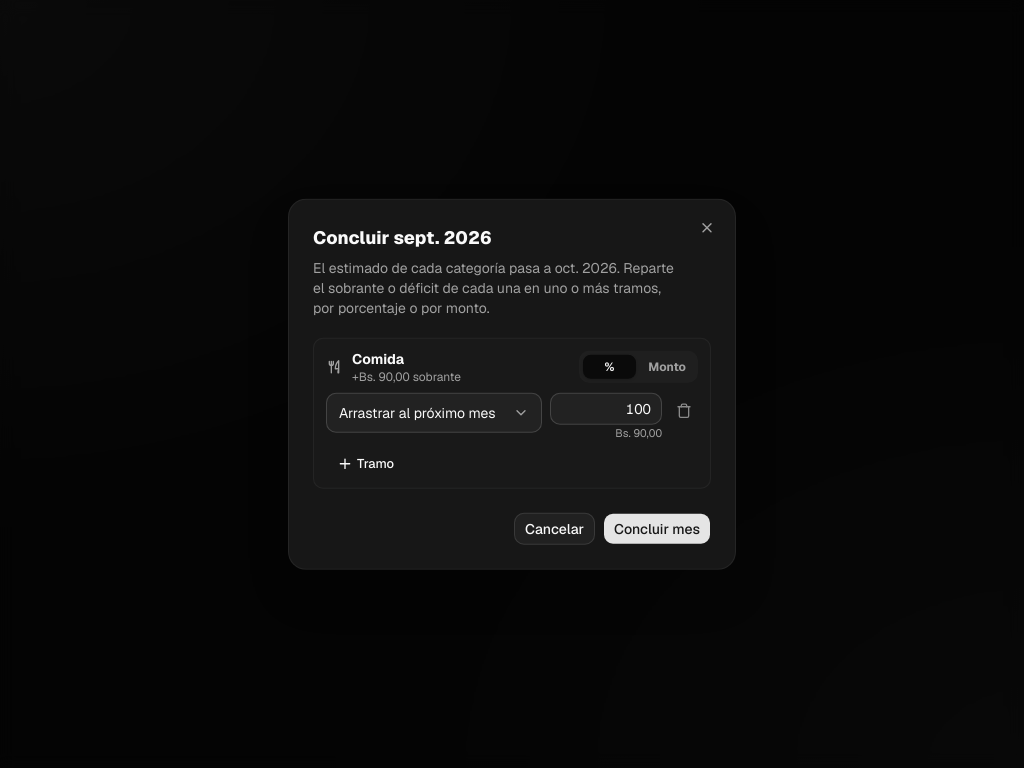
Test case: ConcludeMonthDialog — reparto del cierre › quitar un tramo vuelve a dejar el reparto incompleto
Replace the text in the field named "Tramo 1 de Comida" with "60" at {"x": 606, "y": 409}, box [550,393,662,425]
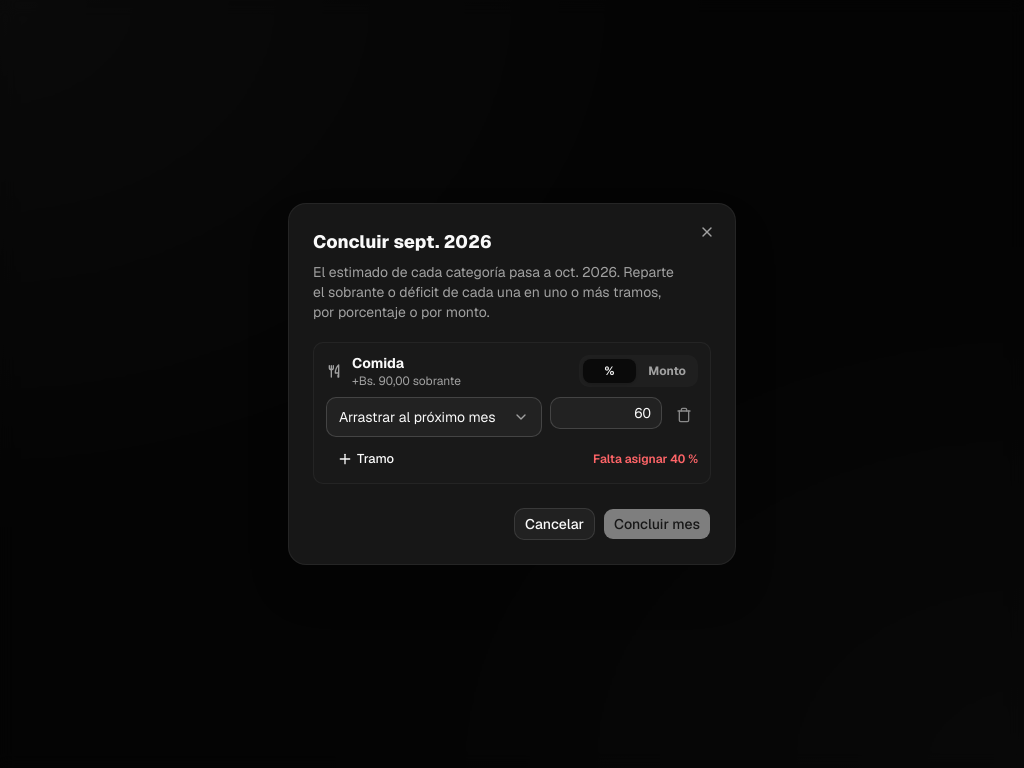
Click the button with aria-label "Agregar tramo a Comida" at {"x": 366, "y": 459}, box [326,445,405,473]
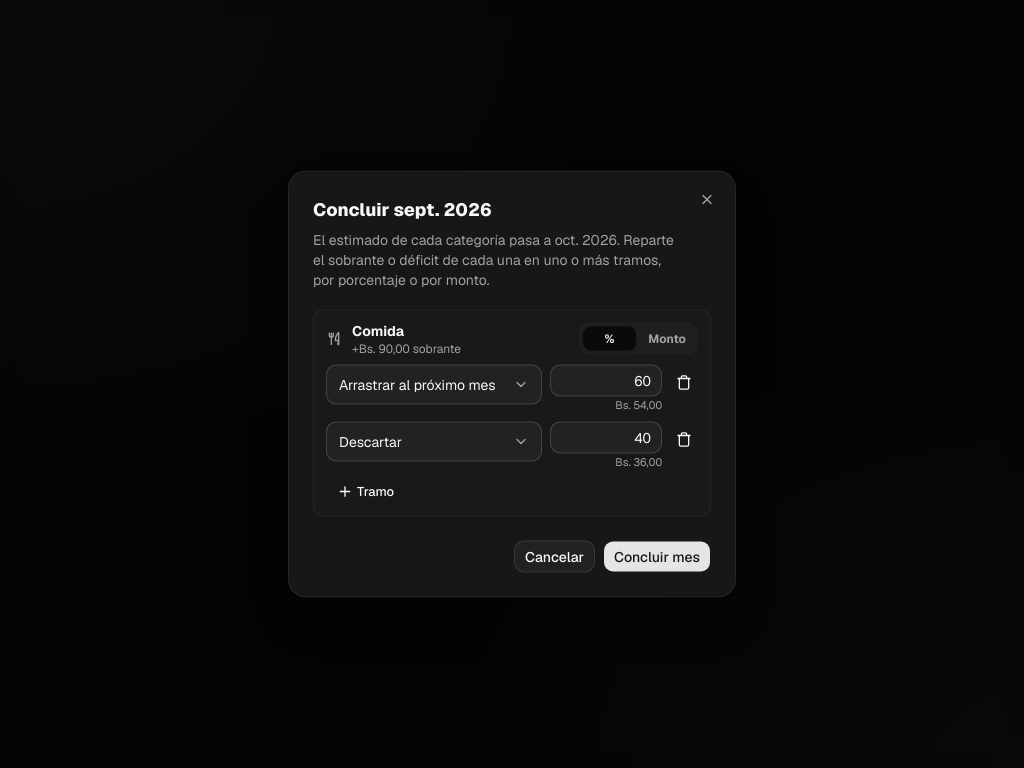
Click the button named "Quitar tramo 2 de Comida" at {"x": 684, "y": 439}, box [670,425,698,453]
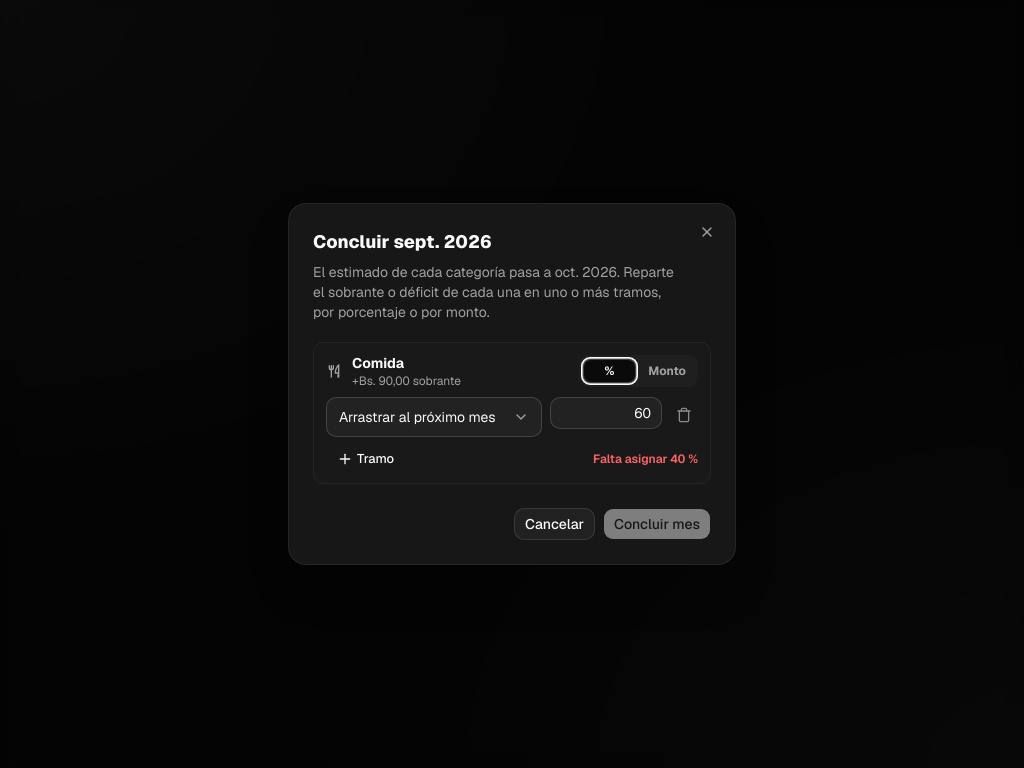
Check: the button "Concluir mes" is disabled, box [603,508,711,540]
